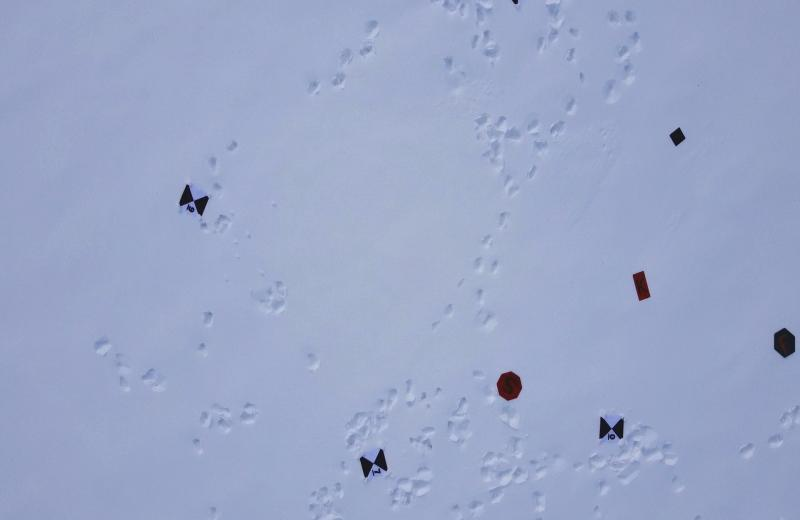Hexagon: (772, 324, 799, 358)
Octagon: (494, 367, 524, 403)
Rectangle: (632, 268, 652, 302)
Square: (668, 126, 686, 148)
